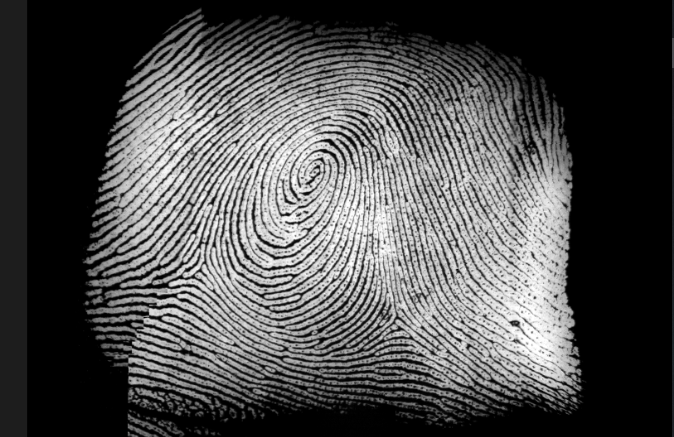deltas: (155, 241, 225, 294), (372, 293, 424, 346)
nucleo: (290, 147, 342, 196)
